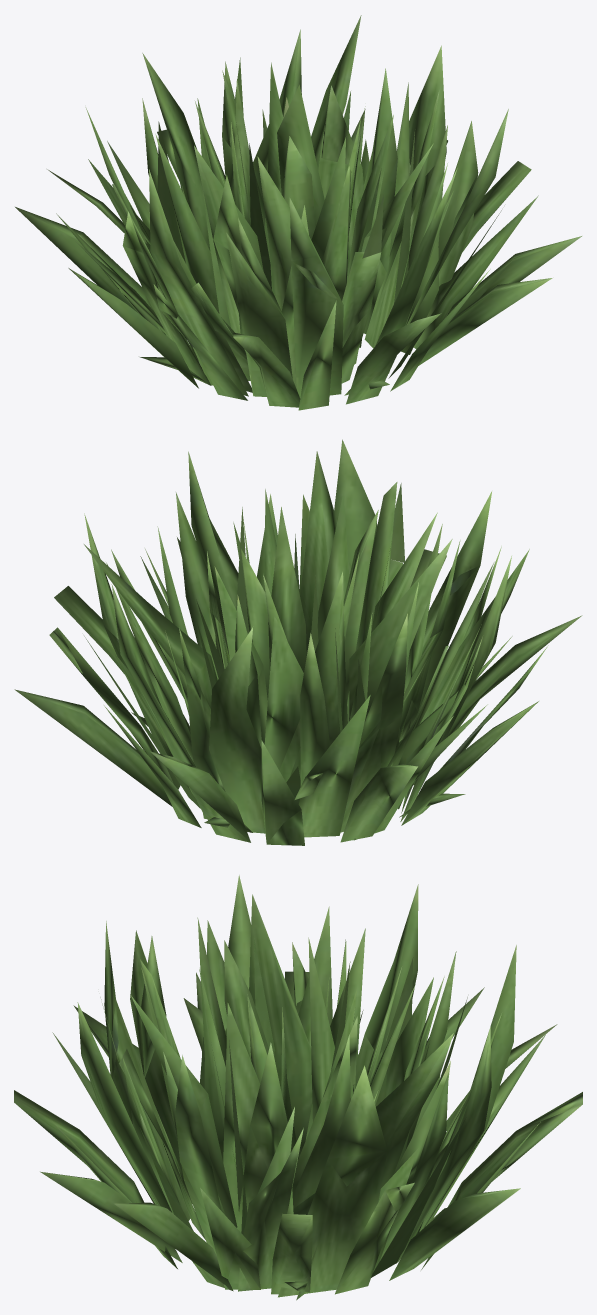
The model's file is meshy-grass-clump.glb.
The picture shows the model from 3 angles, top to bottom: view 1: azimuth 30°, elevation 25°; view 2: azimuth 150°, elevation 25°; view 3: azimuth 270°, elevation 25°; orthographic projection. The views are drawn at different scales.
Bounding box in the file's own units: 1 × 0.5464 × 1.
1 material, 1 textured.
